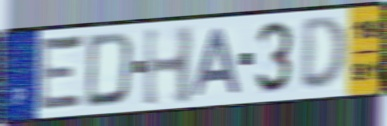3: (253, 18, 298, 97)
A: (192, 26, 244, 98)
D: (83, 29, 137, 110), (298, 14, 349, 94)
E: (36, 32, 86, 115)
H: (142, 24, 196, 110)
